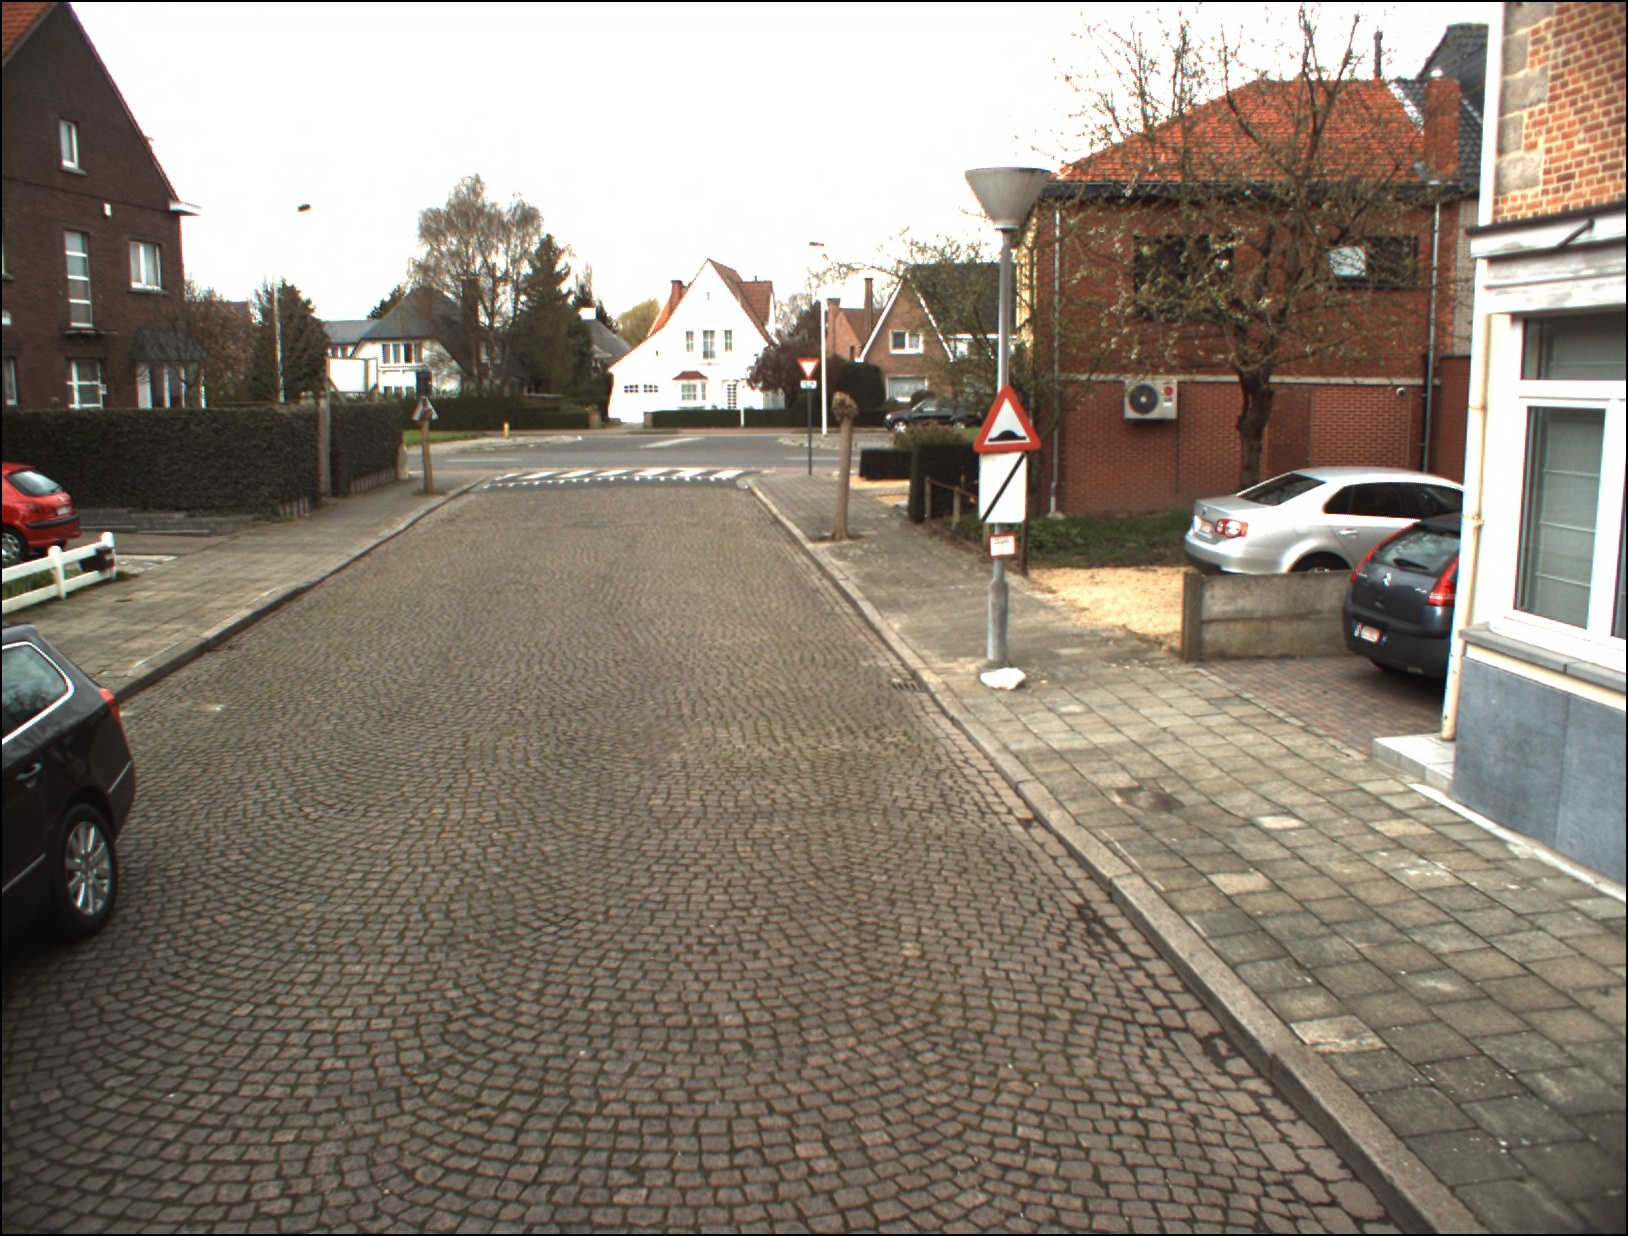speedbump: (972, 384, 1042, 454)
